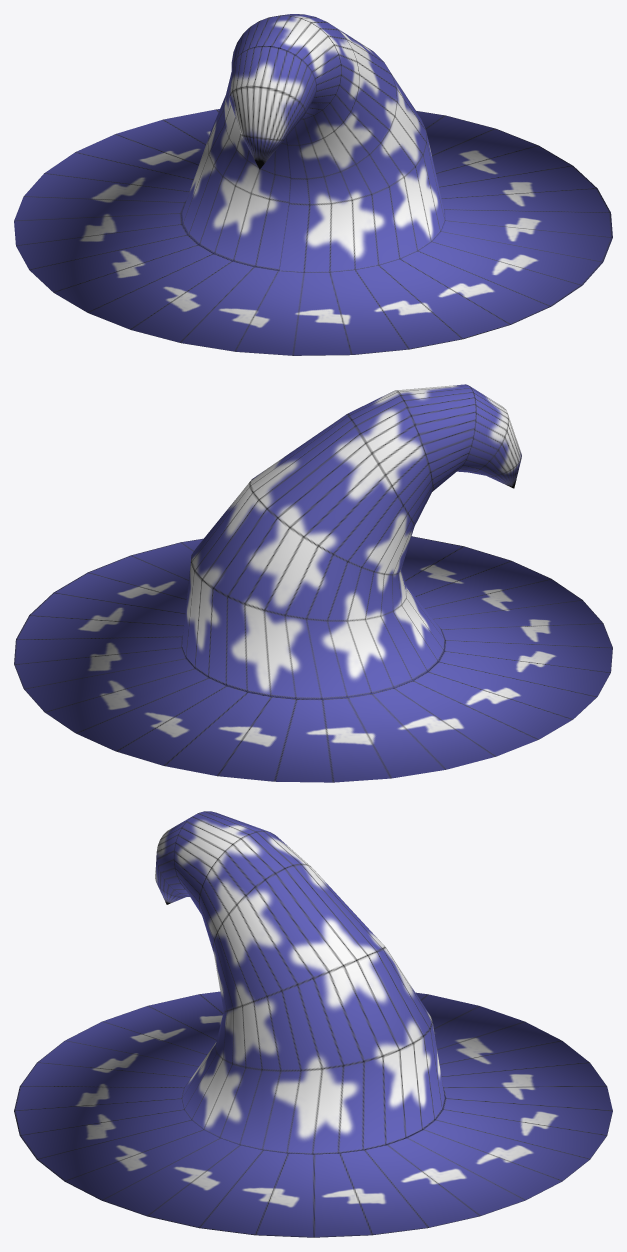
File: WizardHatNormal.obj
3 renders of one model, top to bottom at view 1: azimuth 30°, elevation 25°; view 2: azimuth 150°, elevation 25°; view 3: azimuth 270°, elevation 25°, orthographic.
Parts seen in each view (by area): view 1: Cone; view 2: Cone; view 3: Cone.
Part boxes in pixels (bbox=[...]): Cone: bbox=[14, 14, 612, 355]; Cone: bbox=[14, 384, 612, 782]; Cone: bbox=[14, 811, 612, 1237].
Bounding box in the file's own units: 3.9 × 1.8 × 3.9.
